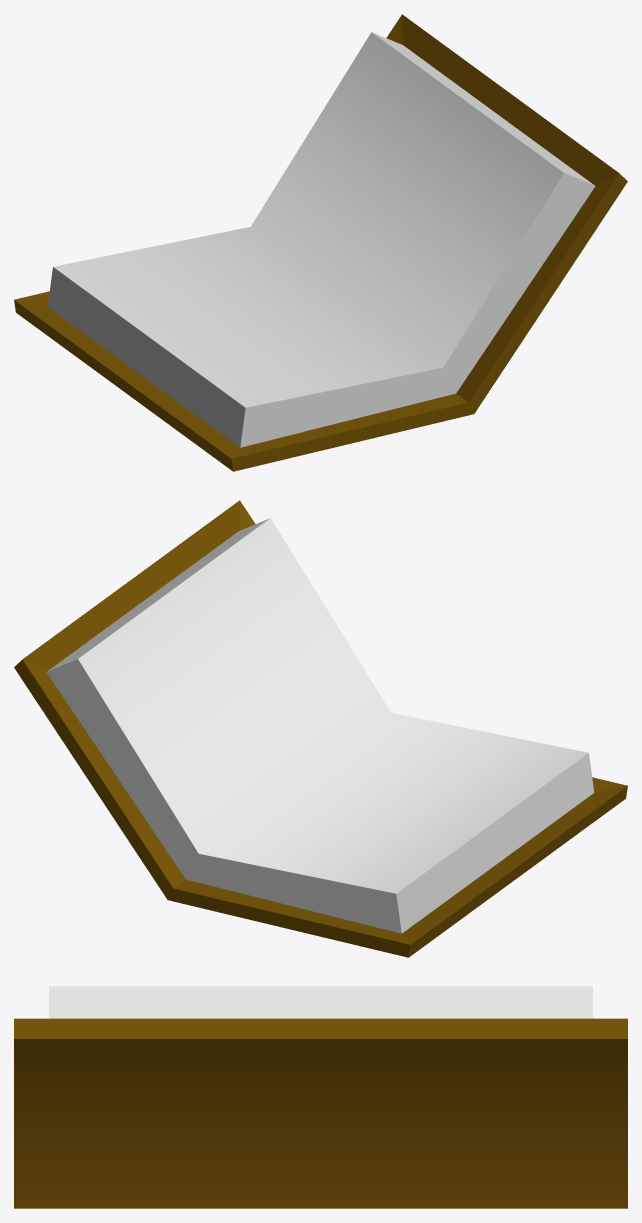
The model's file is PaperPrefab2.fbx.
3 views of the same model, one above another, from view 1: azimuth 30°, elevation 25°; view 2: azimuth 150°, elevation 25°; view 3: azimuth 270°, elevation 25° (orthographic). The views are drawn at different scales.
Visible parts, largest first — view 1: pCube1; view 2: pCube1; view 3: pCube1.
Part boxes in pixels (box(x1,y1,x2,y2)): pCube1: box(14, 14, 627, 471); pCube1: box(14, 500, 627, 957); pCube1: box(14, 986, 627, 1208).
Bounding box in the file's own units: 5.27 × 2.63 × 5.
